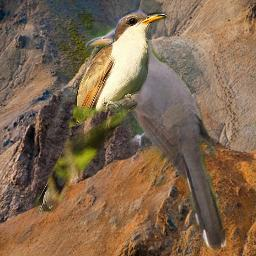Cuckoo: (85, 23, 232, 255), (32, 7, 170, 217)
